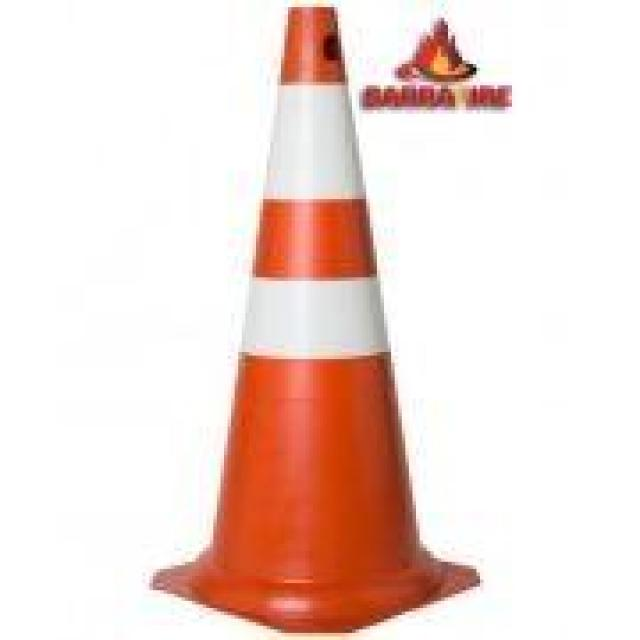cone: (151, 9, 479, 638)
